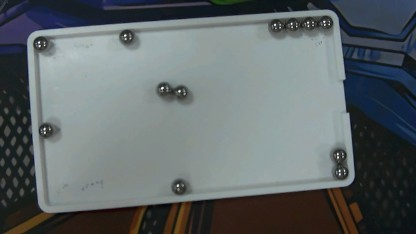ironball: (170, 176, 195, 198), (150, 77, 171, 100), (34, 119, 56, 140), (299, 12, 317, 36), (328, 144, 349, 164), (171, 81, 190, 102), (30, 32, 48, 52), (331, 167, 351, 184), (118, 29, 135, 46), (284, 17, 299, 36), (266, 17, 282, 34), (319, 14, 334, 32)
